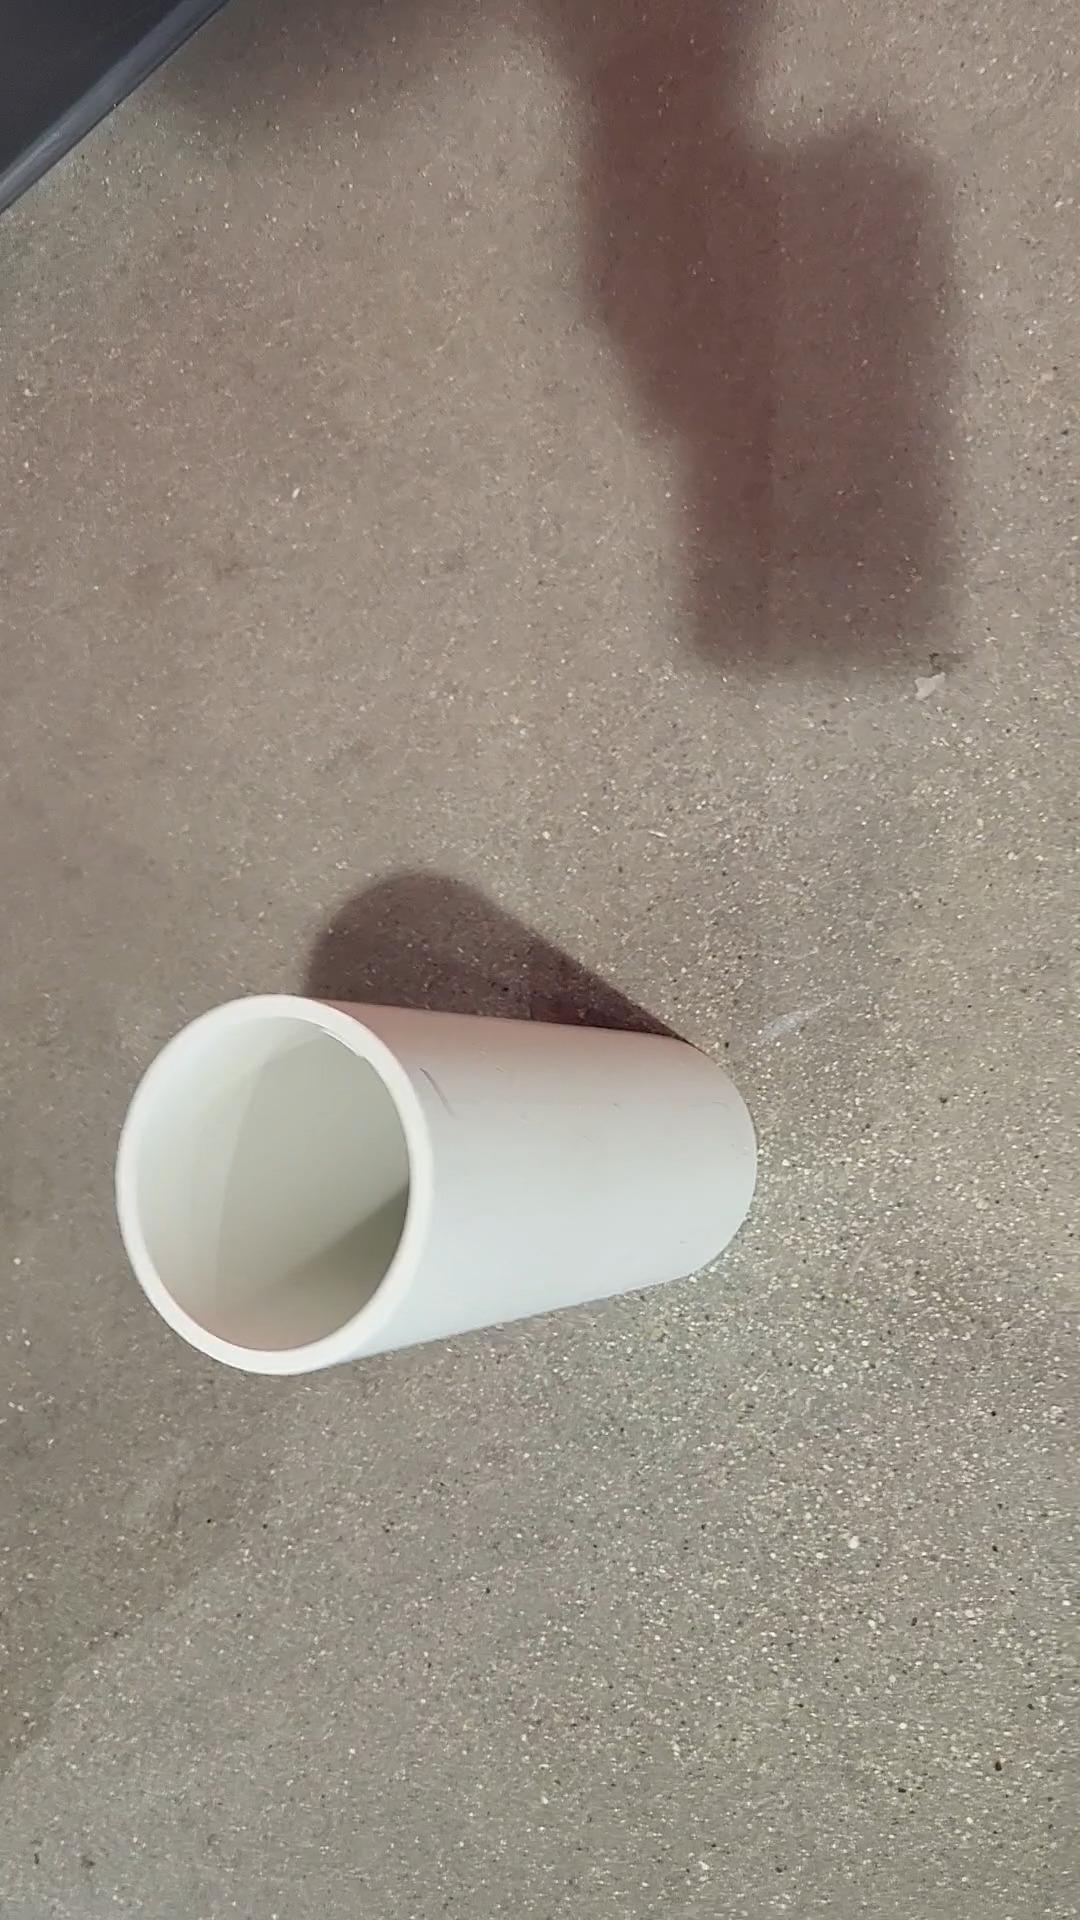coral: (117, 997, 757, 1378)
